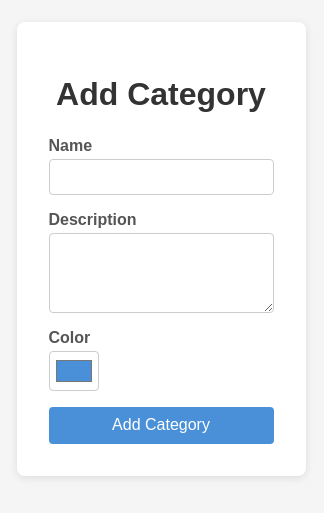
Add Category Page › should show success message after creation
In the field labelled "Name": (161, 177) [48,159,274,195], type "Health"
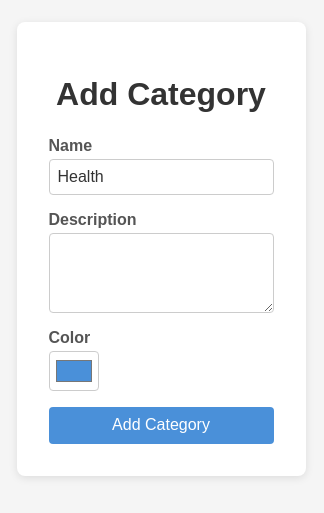
Submit the form from the button "Add Category", box [48,407,274,444]
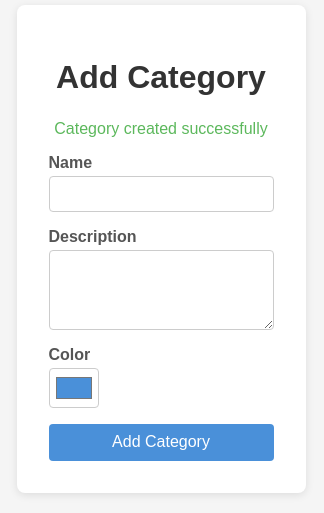
Now the text "Category created successfully" is shown, box [48,120,274,138]
